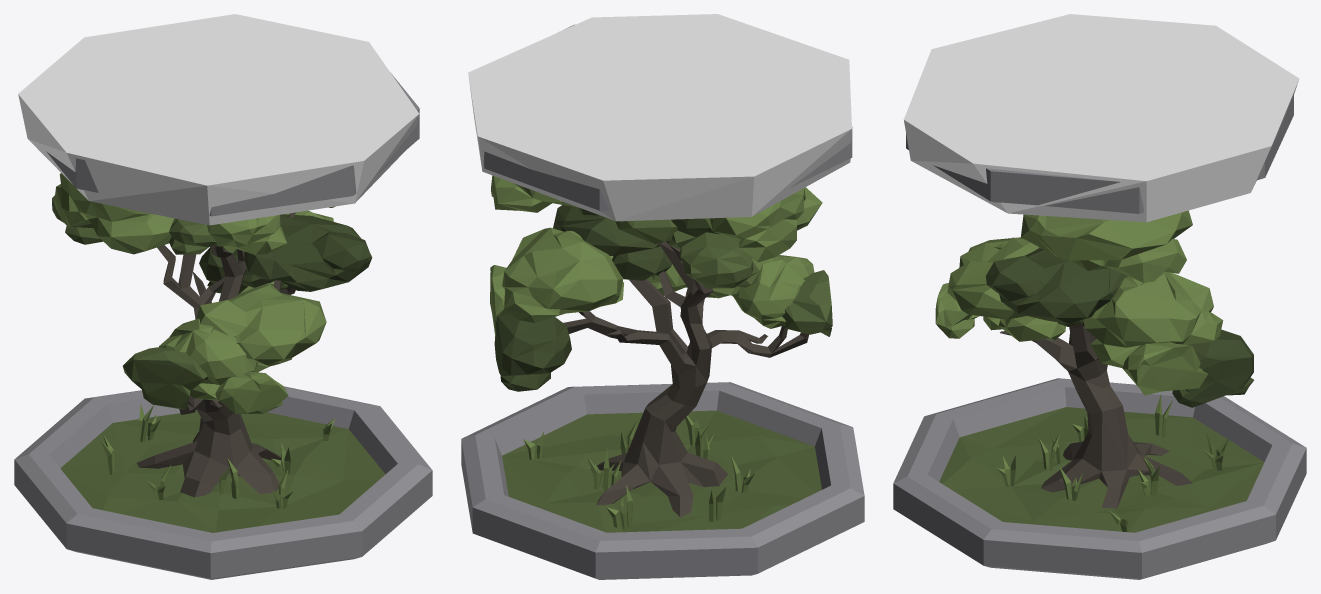
Rendered from SM_Prop_CenterTube_01.fbx.
The picture shows the model from 3 angles, left to right: view 1: azimuth 30°, elevation 25°; view 2: azimuth 150°, elevation 25°; view 3: azimuth 270°, elevation 25°; orthographic projection.
Parts seen in each view (by area): view 1: SM_Prop_CenterTube_01_LOD0, SM_Prop_CenterTube_01_ConvexHulls; view 2: SM_Prop_CenterTube_01_LOD0, SM_Prop_CenterTube_01_ConvexHulls; view 3: SM_Prop_CenterTube_01_LOD0, SM_Prop_CenterTube_01_ConvexHulls.
Boxes of the visible parts, x1,y1,x2,y2 form: SM_Prop_CenterTube_01_LOD0: (14,72,432,579); SM_Prop_CenterTube_01_ConvexHulls: (18,14,419,225); SM_Prop_CenterTube_01_LOD0: (461,24,864,579); SM_Prop_CenterTube_01_ConvexHulls: (468,14,851,221); SM_Prop_CenterTube_01_LOD0: (893,94,1306,579); SM_Prop_CenterTube_01_ConvexHulls: (903,14,1299,222).
Size of the model in its own units: 378 by 378 by 404.
1 material, 1 textured.
